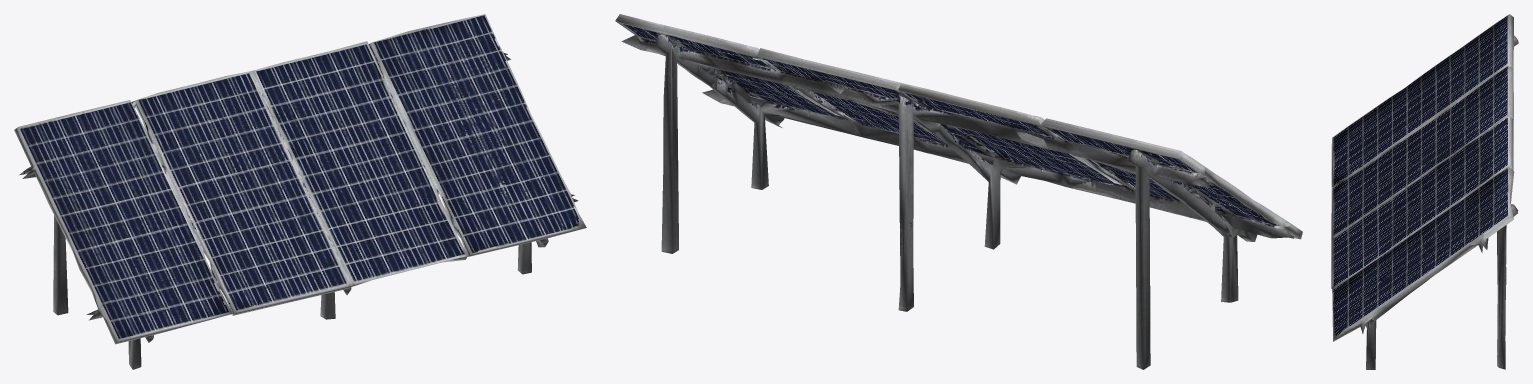
File: solar-array.glb
3 views of the same model, side by side, from view 1: azimuth 30°, elevation 25°; view 2: azimuth 150°, elevation 25°; view 3: azimuth 270°, elevation 25° (orthographic). The views are drawn at different scales.
Visible parts, largest first — view 1: Mesh_0.001; view 2: Mesh_0.001; view 3: Mesh_0.001.
Boxes of the visible parts, x1,y1,x2,y2 form: Mesh_0.001: [14, 14, 586, 369]; Mesh_0.001: [615, 14, 1302, 369]; Mesh_0.001: [1331, 14, 1518, 369].
Size of the model in its own units: 7.45 by 2.8 by 2.8.
Materials: 1 (1 with a texture image).
